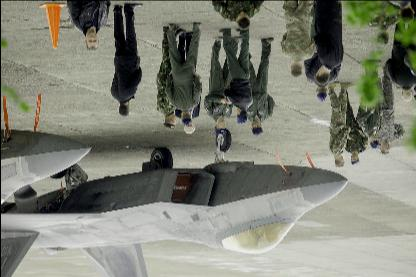F18: (1, 129, 349, 275), (2, 129, 92, 216)
